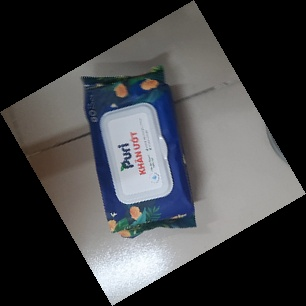Puri Xanh: (77, 62, 200, 243)
